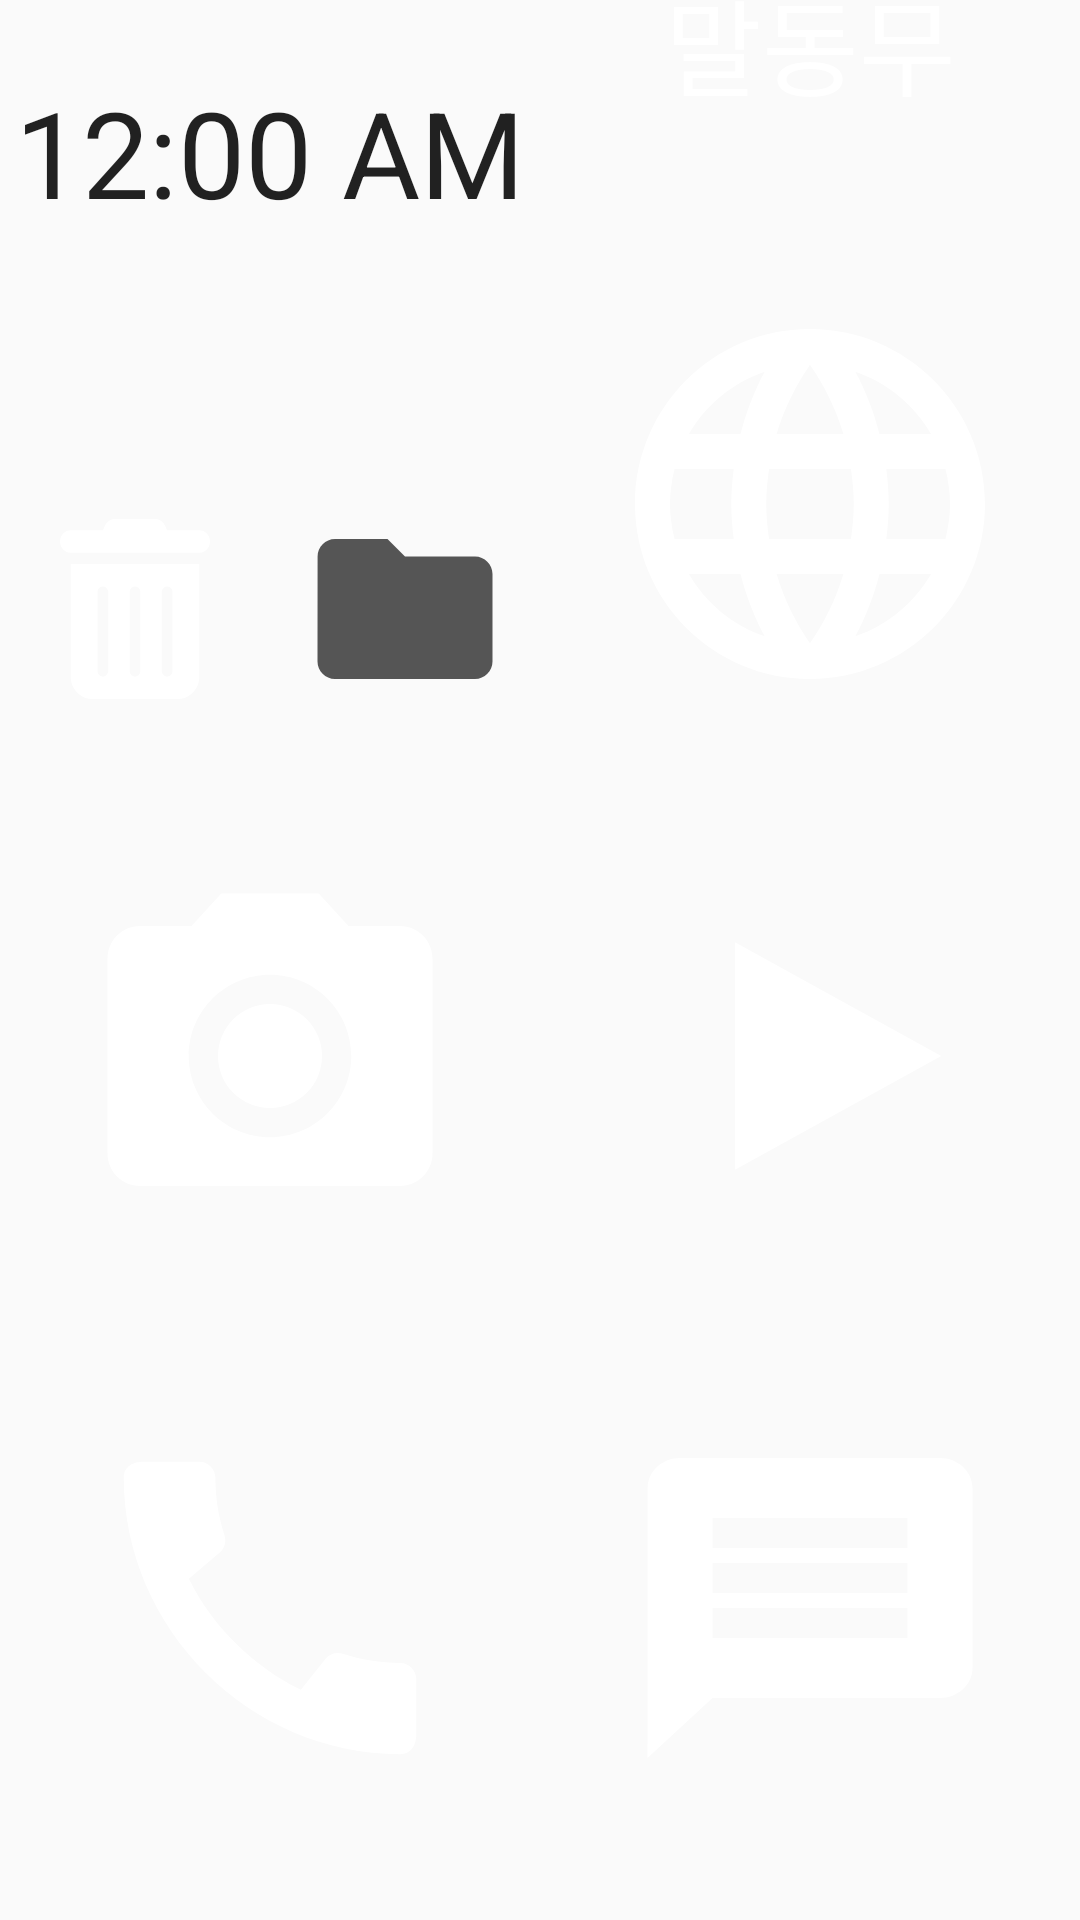

Named icons in this screenshot (1080x1920) and their centers, (x=x, y=y):
open allFiles app: (x=405, y=609)
